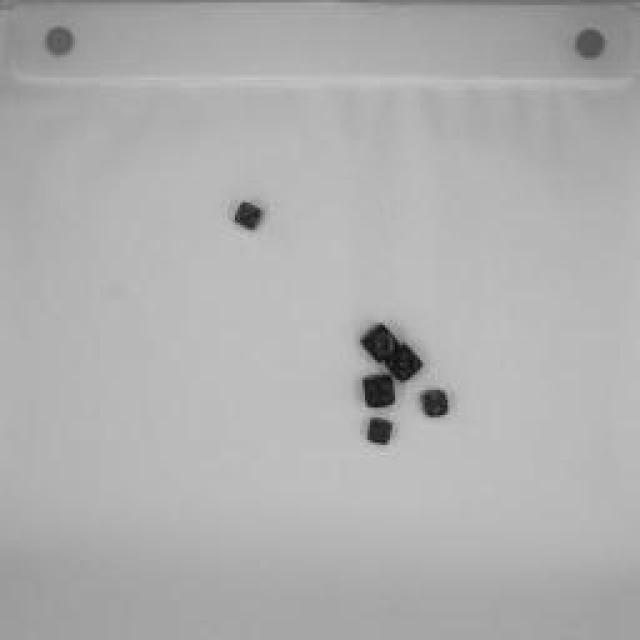dice_3: (358, 322, 402, 368), (383, 340, 425, 385)
dice_4: (360, 371, 395, 411), (229, 198, 266, 234)
dice_5: (418, 385, 454, 420), (363, 418, 395, 448)
